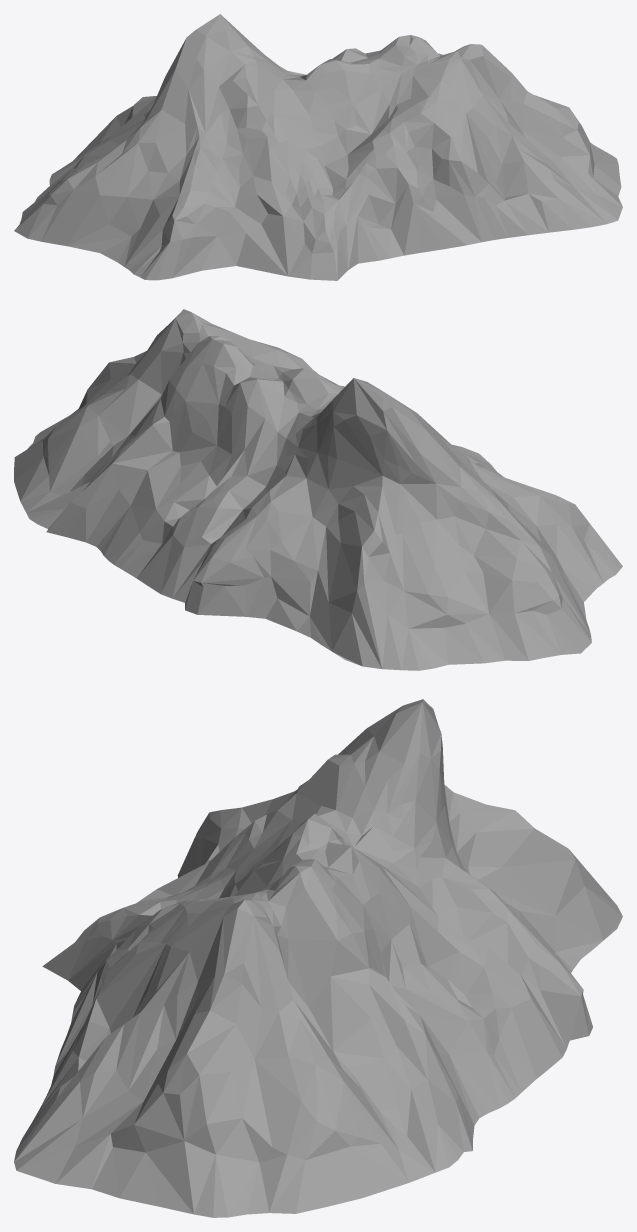
The model's file is Cliff-2.glb.
3 views of the same model, one above another, from view 1: azimuth 30°, elevation 25°; view 2: azimuth 150°, elevation 25°; view 3: azimuth 270°, elevation 25° (orthographic). The views are drawn at different scales.
Parts seen in each view (by area): view 1: mountains_001; view 2: mountains_001; view 3: mountains_001.
Boxes of the visible parts, x1,y1,x2,y2 form: mountains_001: (14,14,622,280); mountains_001: (14,309,622,670); mountains_001: (14,699,622,1217).
Size of what is drawn, in the model's own units: 27.12 by 8.61 by 17.66.
Materials: 1 (1 with a texture image).
